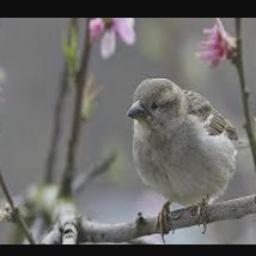Sparrow: (126, 77, 250, 241)
